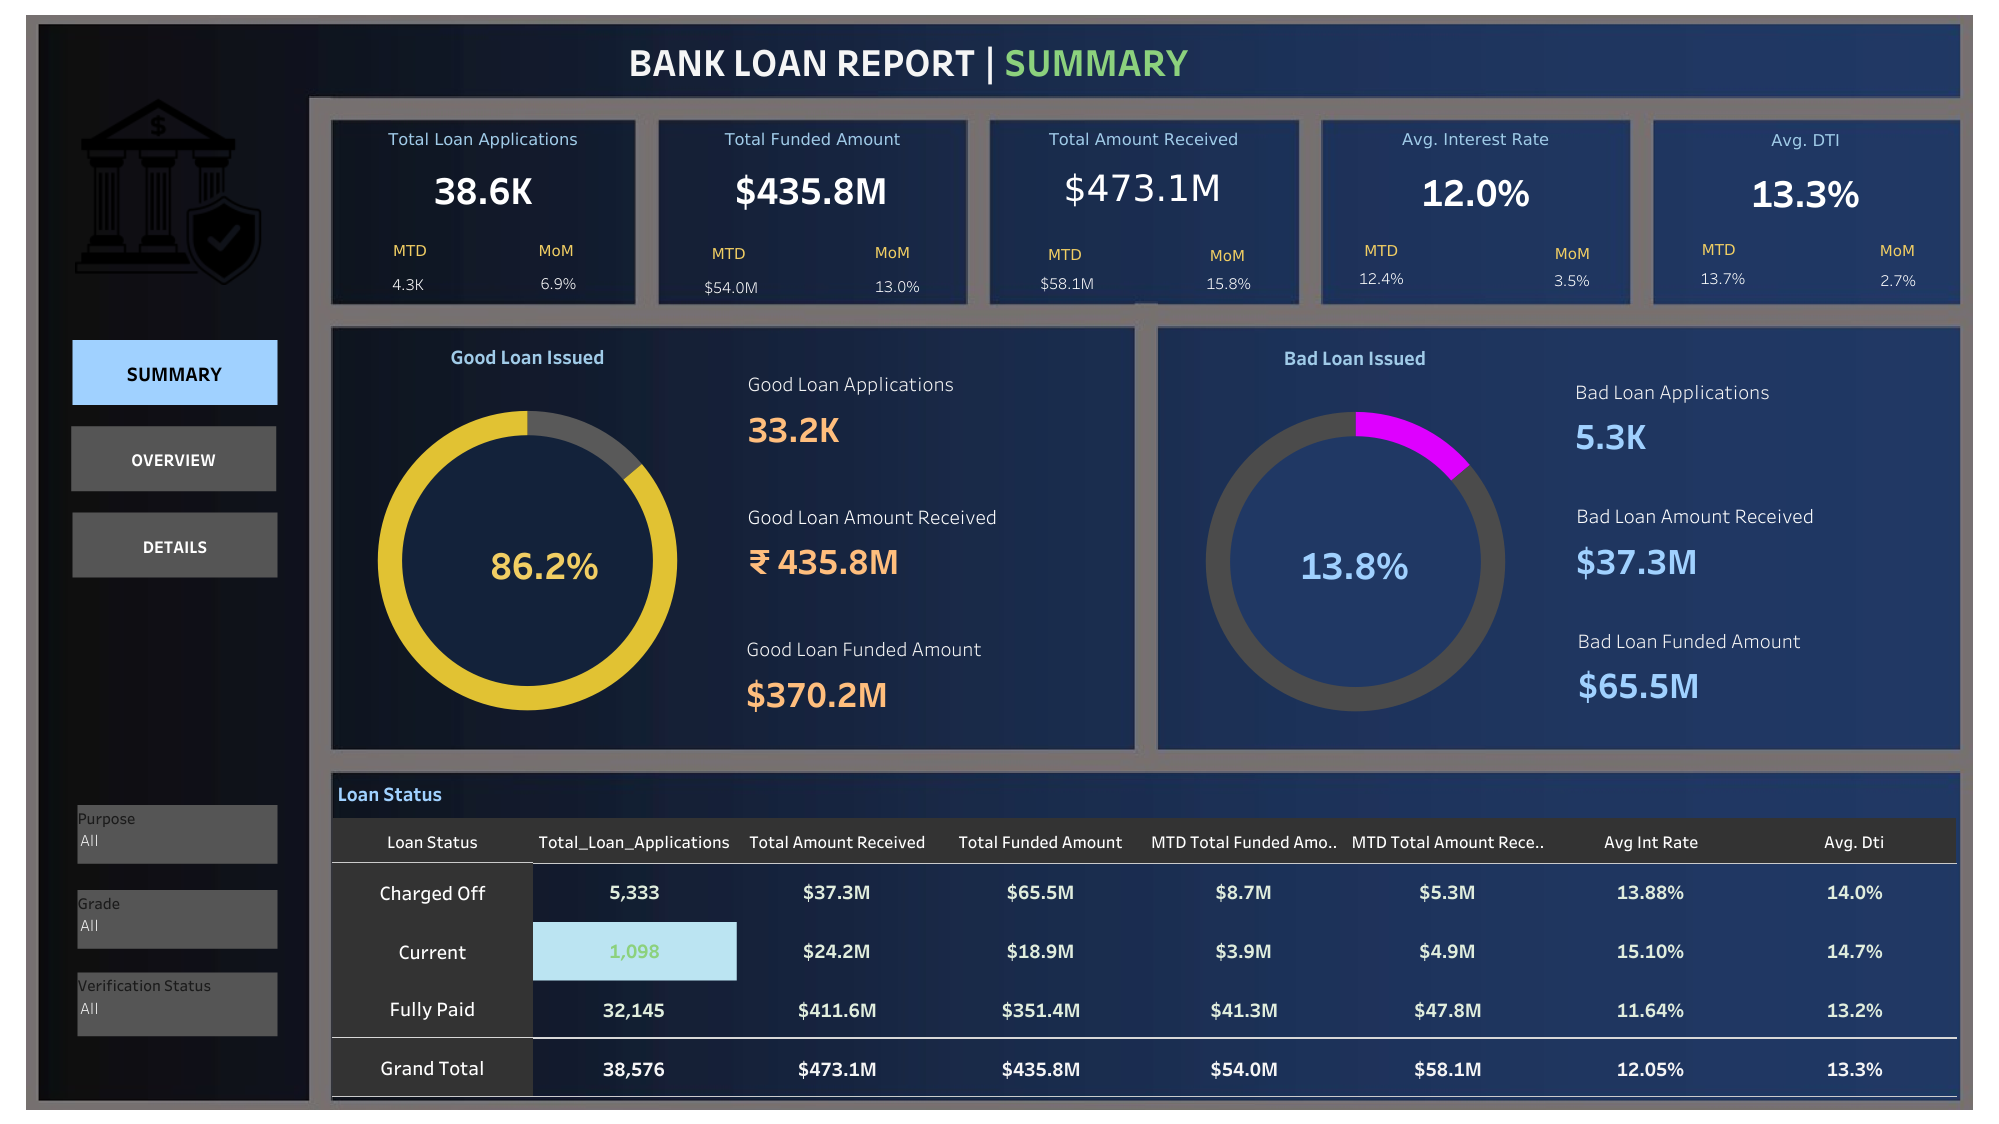

What the dashboard file says about the page in this screenshot:
{"tool":"tableau","page":{"name":"SUMMARY","canvas":[1600,900],"ordinal":2},"visuals":[{"type":"image","param":"Image/Tableau Background 1.jpg","box":[8,8,1584,884]},{"type":"text","box":[500,25,591,48]},{"type":"image","param":"Image/finance-7731978_1280 1.png","box":[60,79,150,149]},{"type":"worksheet","title":"Total Loan Applications","mark":"Automatic","box":[266,97,241,76]},{"type":"worksheet","title":"Total Funded Amount","mark":"Automatic","box":[528,97,244,76]},{"type":"worksheet","title":"Total Amount Received","mark":"Automatic","box":[793,97,244,76]},{"type":"worksheet","title":"Avg. Interest Rate","mark":"Automatic","box":[1059,97,243,80]},{"type":"worksheet","title":"Avg. DTI","mark":"Automatic","box":[1324,98,241,79]},{"type":"text","box":[1346,184,58,30]},{"type":"text","box":[1076,185,58,30]},{"type":"text","box":[1489,185,58,30]},{"type":"text","box":[685,186,58,30]},{"type":"text","box":[554,187,58,30]},{"type":"text","box":[1229,187,58,30]},{"type":"text","box":[299,188,58,24]},{"type":"text","box":[416,188,58,24]},{"type":"text","box":[823,188,58,30]},{"type":"text","box":[953,189,58,30]},{"type":"worksheet","title":"MTD Avg Int Rate","mark":"Automatic","box":[1075,200,61,45]},{"type":"worksheet","title":"MoM Total Amount Received","mark":"Automatic","box":[940,204,86,45]},{"type":"worksheet","title":"MTD Avg. DTI","mark":"Automatic","box":[1338,205,81,34]},{"type":"worksheet","title":"MTD Total Amount Received","mark":"Automatic","box":[819,209,71,34]},{"type":"worksheet","title":"MoM Avg Int Rate","mark":"Automatic","box":[1215,209,85,31]},{"type":"worksheet","title":"MoM Avg DTI","mark":"Automatic","box":[1483,209,71,30]},{"type":"worksheet","title":"MoM Total Funded Amount","mark":"Automatic","box":[684,215,68,26]},{"type":"worksheet","title":"MTD Total Loan Applications","mark":"Automatic","box":[293,216,69,22]},{"type":"worksheet","title":"MoM Loan Application","mark":"Automatic","box":[414,217,65,19]},{"type":"worksheet","title":"MTD Total Funded Amount","mark":"Automatic","box":[546,220,78,18]},{"type":"worksheet","title":"Good Loan Issued","mark":"Pie","rows":["Calculation_850054466480586784","Calculation_850054466480586784"],"box":[272,268,300,325]},{"type":"worksheet","title":"Bad Loan Issued ","mark":"Pie","rows":["Calculation_850054466480586784","Calculation_850054466480586784"],"box":[934,269,300,325]},{"type":"dashboard-object","box":[58,272,164,52]},{"type":"worksheet","title":"Good Loan Applications","mark":"Automatic","box":[590,286,300,75]},{"type":"worksheet","title":"Bad Loan Applications ","mark":"Automatic","box":[1252,292,300,75]},{"type":"dashboard-object","box":[57,341,164,52]},{"type":"worksheet","title":"Bad Loan % ","mark":"Automatic","box":[1011,386,145,131]},{"type":"worksheet","title":"Bad Loan Amount Received ","mark":"Automatic","box":[1253,391,300,78]},{"type":"worksheet","title":"Good Loan Amount Received","mark":"Automatic","box":[590,392,300,75]},{"type":"dashboard-object","box":[58,410,164,52]},{"type":"worksheet","title":"Good Loan Application %","mark":"Automatic","box":[367,411,138,81]},{"type":"worksheet","title":"Bad Loan Funded Amount ","mark":"Automatic","box":[1254,491,300,75]},{"type":"worksheet","title":"Good Loan Funded Amount","mark":"Automatic","box":[589,498,300,75]},{"type":"worksheet","title":"Loan Status","mark":"Automatic","rows":["loan_status"],"box":[266,618,1300,260]},{"type":"filter","title":"Good Loan Issued","param":"[federated.1d02x8h0645hfc154q3pg11jt201].[none:purpose:nk]","box":[62,644,160,47]},{"type":"filter","title":"Good Loan Issued","param":"[federated.1d02x8h0645hfc154q3pg11jt201].[none:grade:nk]","box":[62,712,160,47]},{"type":"filter","title":"Good Loan Issued","param":"[federated.1d02x8h0645hfc154q3pg11jt201].[none:verification_status:nk]","box":[62,778,160,51]}]}

Visuals, with their boxes in screenshot pixels (x1, y1, x2, y2), scaled from the page's 1600x900 canvas onto the 1999x1124 screenshot:
image: BBox(10, 10, 1989, 1114)
text: BBox(625, 31, 1363, 91)
image: BBox(75, 99, 262, 285)
"Total Loan Applications" worksheet: BBox(332, 121, 633, 216)
"Total Funded Amount" worksheet: BBox(660, 121, 965, 216)
"Total Amount Received" worksheet: BBox(991, 121, 1296, 216)
"Avg. Interest Rate" worksheet: BBox(1323, 121, 1627, 221)
"Avg. DTI" worksheet: BBox(1654, 122, 1955, 221)
text: BBox(1682, 230, 1754, 267)
text: BBox(1344, 231, 1417, 269)
text: BBox(1860, 231, 1933, 269)
text: BBox(856, 232, 928, 270)
text: BBox(692, 234, 765, 271)
text: BBox(1535, 234, 1608, 271)
text: BBox(374, 235, 446, 265)
text: BBox(520, 235, 592, 265)
text: BBox(1028, 235, 1101, 272)
text: BBox(1191, 236, 1263, 274)
"MTD Avg Int Rate" worksheet: BBox(1343, 250, 1419, 306)
"MoM Total Amount Received" worksheet: BBox(1174, 255, 1282, 311)
"MTD Avg. DTI" worksheet: BBox(1672, 256, 1773, 298)
"MTD Total Amount Received" worksheet: BBox(1023, 261, 1112, 303)
"MoM Avg Int Rate" worksheet: BBox(1518, 261, 1624, 300)
"MoM Avg DTI" worksheet: BBox(1853, 261, 1942, 298)
"MoM Total Funded Amount" worksheet: BBox(855, 269, 940, 301)
"MTD Total Loan Applications" worksheet: BBox(366, 270, 452, 297)
"MoM Loan Application" worksheet: BBox(517, 271, 598, 295)
"MTD Total Funded Amount" worksheet: BBox(682, 275, 780, 297)
"Good Loan Issued" worksheet (Pie marks): BBox(340, 335, 715, 741)
"Bad Loan Issued " worksheet (Pie marks): BBox(1167, 336, 1542, 742)
dashboard-object: BBox(72, 340, 277, 405)
"Good Loan Applications" worksheet: BBox(737, 357, 1112, 451)
"Bad Loan Applications " worksheet: BBox(1564, 365, 1939, 458)
dashboard-object: BBox(71, 426, 276, 491)
"Bad Loan % " worksheet: BBox(1263, 482, 1444, 646)
"Bad Loan Amount Received " worksheet: BBox(1565, 488, 1940, 586)
"Good Loan Amount Received" worksheet: BBox(737, 490, 1112, 583)
dashboard-object: BBox(72, 512, 277, 577)
"Good Loan Application %" worksheet: BBox(459, 513, 631, 614)
"Bad Loan Funded Amount " worksheet: BBox(1567, 613, 1942, 707)
"Good Loan Funded Amount" worksheet: BBox(736, 622, 1111, 716)
"Loan Status" worksheet: BBox(332, 772, 1957, 1097)
"Good Loan Issued" filter: BBox(77, 804, 277, 863)
"Good Loan Issued" filter: BBox(77, 889, 277, 948)
"Good Loan Issued" filter: BBox(77, 972, 277, 1035)
